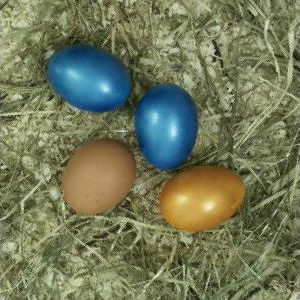egg: (158, 163, 246, 232), (47, 45, 132, 113), (61, 138, 135, 215), (135, 83, 198, 172)
